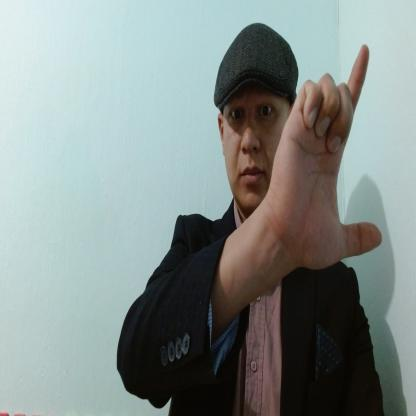L: (270, 46, 382, 270)
